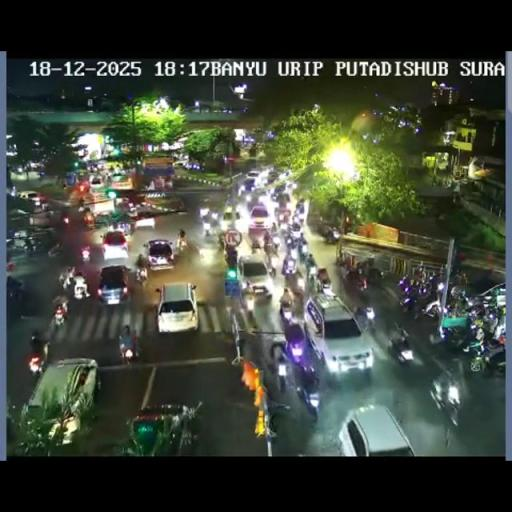Car: (22, 357, 99, 447), (304, 296, 372, 378), (336, 403, 417, 455), (120, 402, 200, 454), (155, 282, 198, 334), (237, 254, 274, 299), (281, 320, 312, 366), (138, 194, 186, 222), (96, 265, 130, 304), (144, 238, 176, 270), (100, 230, 130, 260), (29, 210, 60, 228), (248, 204, 270, 229), (265, 168, 288, 186), (220, 210, 236, 234), (244, 170, 262, 186), (17, 190, 39, 201), (89, 177, 104, 190), (173, 159, 188, 167)
Motorcycle: (430, 366, 463, 424), (464, 330, 504, 374), (436, 314, 474, 352), (422, 286, 460, 322), (294, 374, 320, 419), (387, 323, 414, 365), (28, 334, 50, 374), (398, 278, 422, 312), (118, 330, 140, 364), (463, 299, 490, 322), (275, 354, 290, 392), (6, 276, 24, 307), (490, 308, 506, 341), (354, 306, 374, 332), (71, 273, 90, 300), (315, 266, 332, 294), (93, 210, 117, 229), (52, 301, 68, 326), (202, 218, 218, 242), (281, 254, 297, 276), (58, 266, 74, 288), (280, 298, 294, 322), (296, 242, 310, 266), (224, 245, 238, 269), (366, 266, 384, 284), (267, 229, 282, 250), (354, 270, 368, 291), (82, 210, 96, 230), (306, 258, 316, 285), (115, 220, 133, 235), (285, 230, 298, 250), (47, 242, 63, 258), (325, 227, 340, 244), (453, 271, 468, 288), (134, 268, 148, 286), (243, 289, 255, 310), (277, 211, 289, 230), (24, 236, 36, 254), (175, 237, 188, 253), (250, 235, 262, 252), (292, 211, 303, 229), (270, 186, 282, 202), (217, 229, 226, 250), (294, 274, 305, 291), (125, 206, 138, 220), (136, 253, 147, 269), (198, 204, 210, 218), (81, 247, 90, 263), (281, 191, 290, 205), (61, 212, 70, 225), (238, 184, 246, 198), (40, 201, 50, 211), (78, 197, 85, 210), (106, 174, 112, 186), (10, 185, 16, 197), (61, 182, 66, 190)
